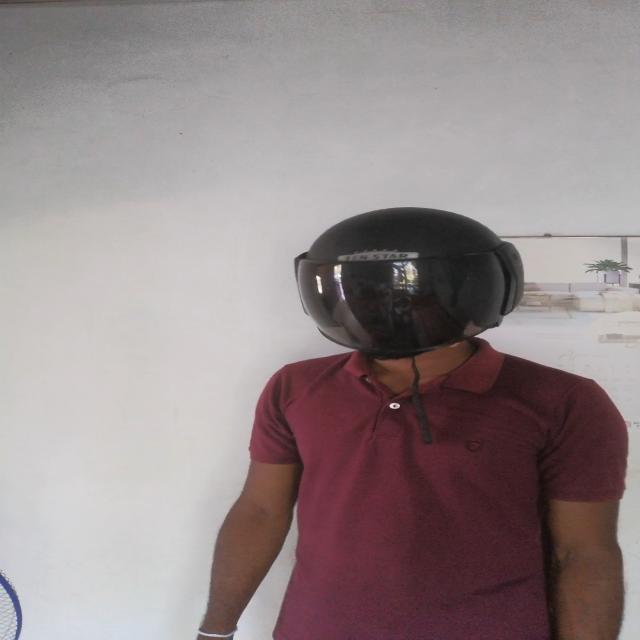Helmet_Wearer: (256, 202, 545, 404)
